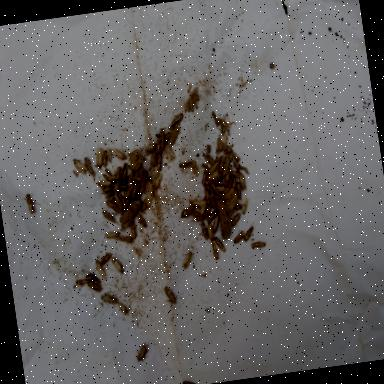pbw: (178, 244, 196, 270), (93, 146, 107, 178), (162, 284, 180, 308), (132, 341, 150, 363), (102, 207, 120, 226), (103, 225, 121, 244), (111, 186, 124, 212), (143, 180, 155, 207), (72, 156, 88, 176), (167, 125, 182, 146), (83, 156, 95, 182), (138, 166, 150, 192), (164, 141, 176, 167), (168, 110, 185, 128), (116, 186, 128, 211), (100, 292, 118, 308), (74, 274, 92, 290), (241, 222, 256, 241), (110, 254, 124, 274), (199, 163, 212, 184), (219, 167, 232, 188), (187, 193, 205, 208), (228, 210, 243, 228), (150, 170, 164, 189), (105, 198, 121, 214), (206, 158, 222, 174), (156, 127, 168, 148), (208, 180, 222, 198), (210, 212, 222, 233), (178, 205, 196, 219), (213, 234, 226, 253), (196, 196, 208, 216), (142, 141, 158, 156), (216, 152, 226, 176), (110, 146, 126, 161), (95, 258, 106, 279), (118, 162, 130, 181), (216, 116, 230, 132), (110, 178, 124, 194), (202, 150, 216, 166), (86, 280, 102, 294), (230, 230, 246, 244), (200, 204, 213, 221), (239, 192, 249, 214), (98, 250, 113, 264), (122, 184, 136, 199), (163, 128, 176, 144), (229, 152, 240, 170), (153, 137, 163, 156), (148, 148, 158, 167), (138, 195, 148, 214), (154, 152, 164, 171), (205, 209, 219, 222), (189, 159, 199, 177), (211, 240, 220, 260), (100, 149, 110, 167), (220, 162, 231, 178), (250, 238, 266, 249), (200, 221, 209, 240), (136, 211, 146, 228), (86, 272, 100, 284), (134, 155, 146, 169), (205, 170, 220, 181), (130, 219, 138, 239), (106, 172, 122, 182), (128, 184, 138, 200), (118, 233, 134, 243), (234, 180, 242, 200), (202, 181, 214, 194), (117, 300, 128, 314), (220, 152, 231, 166), (206, 222, 214, 241), (238, 171, 246, 190), (97, 178, 112, 188), (122, 187, 130, 205), (210, 108, 218, 126), (178, 159, 192, 169), (229, 176, 239, 189), (106, 146, 114, 162), (228, 168, 240, 178), (100, 184, 112, 194), (129, 174, 141, 184), (136, 185, 144, 198), (188, 95, 194, 112), (204, 187, 210, 204), (112, 166, 122, 176), (104, 188, 114, 198), (104, 194, 116, 202), (182, 378, 197, 384), (215, 138, 221, 153), (231, 202, 242, 210), (186, 95, 192, 109), (190, 86, 199, 95), (216, 184, 226, 192), (104, 166, 112, 176), (209, 192, 219, 200), (186, 82, 192, 94), (185, 100, 190, 112), (194, 96, 198, 108), (102, 172, 108, 180)
